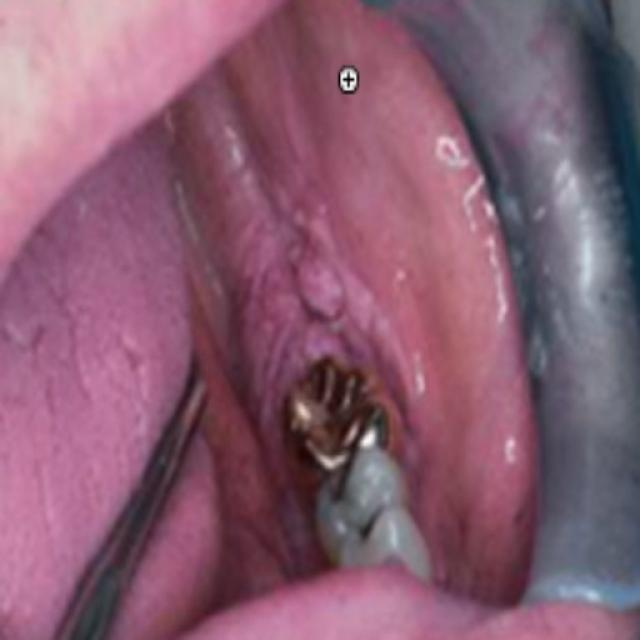cancer-detection: (218, 197, 501, 601)
processing_area: (0, 0, 537, 639)
